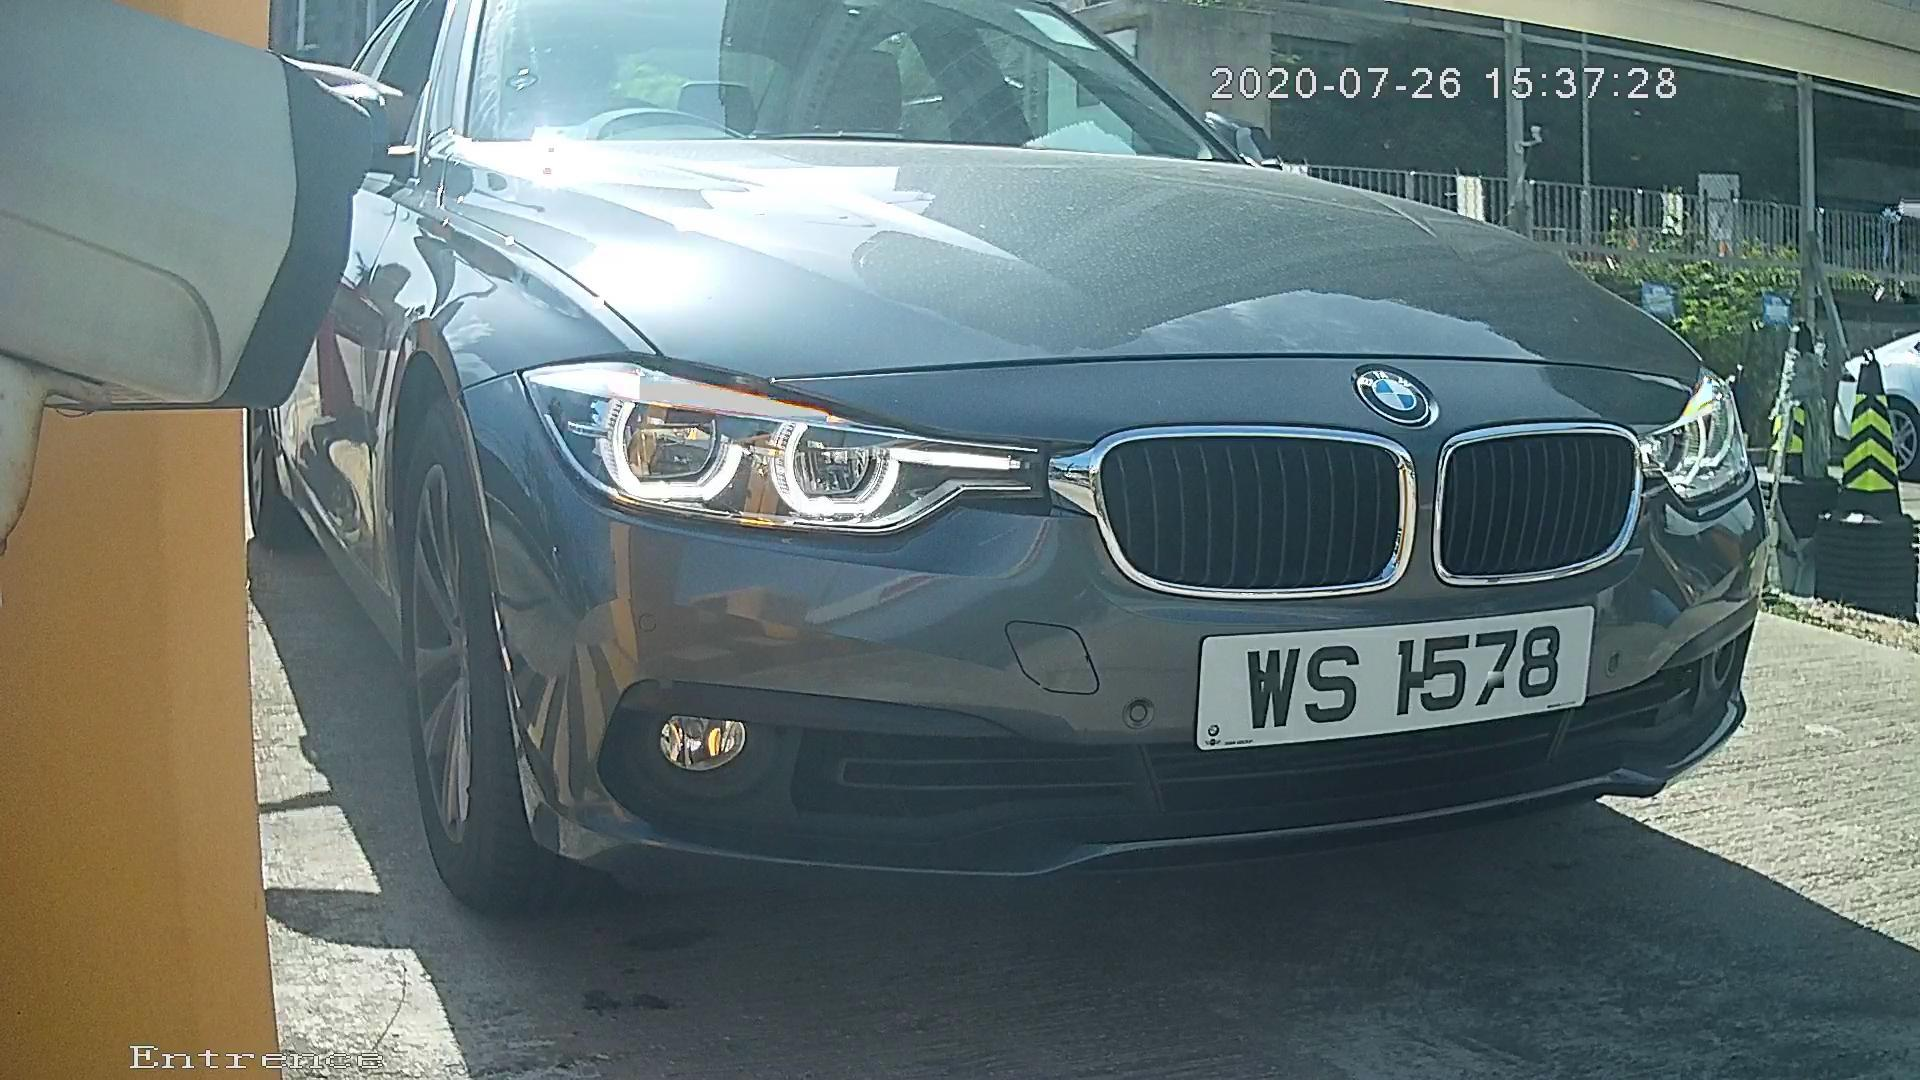privatecar: (258, 34, 1801, 984)
